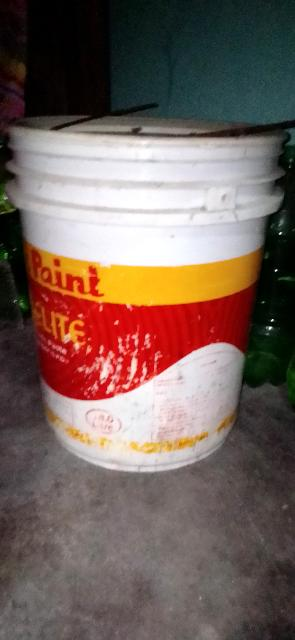hardplastic: (20, 108, 286, 466)
